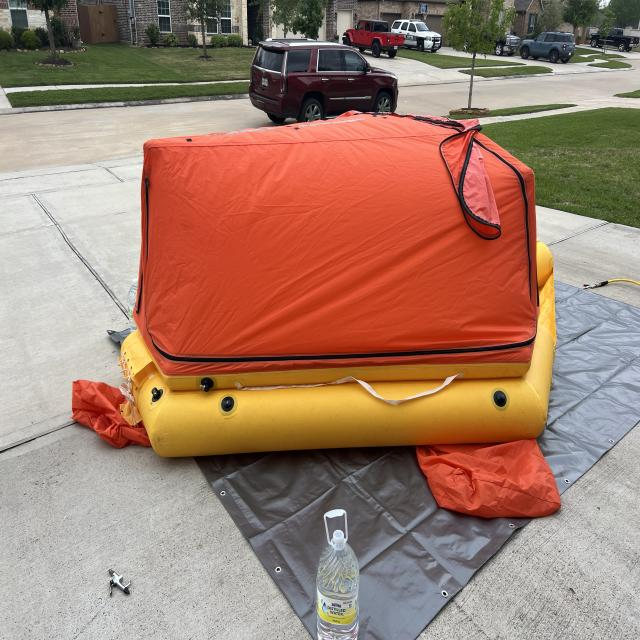Multi-person_life_raft: (72, 111, 560, 518)
